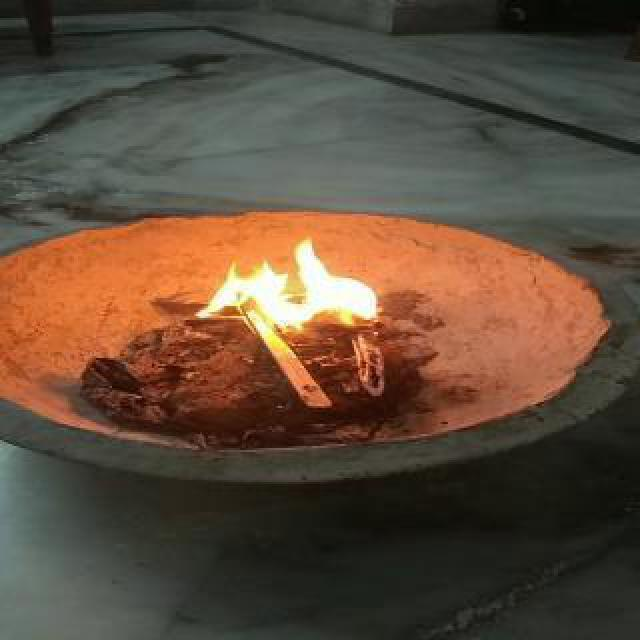Fire: (180, 210, 392, 346)
